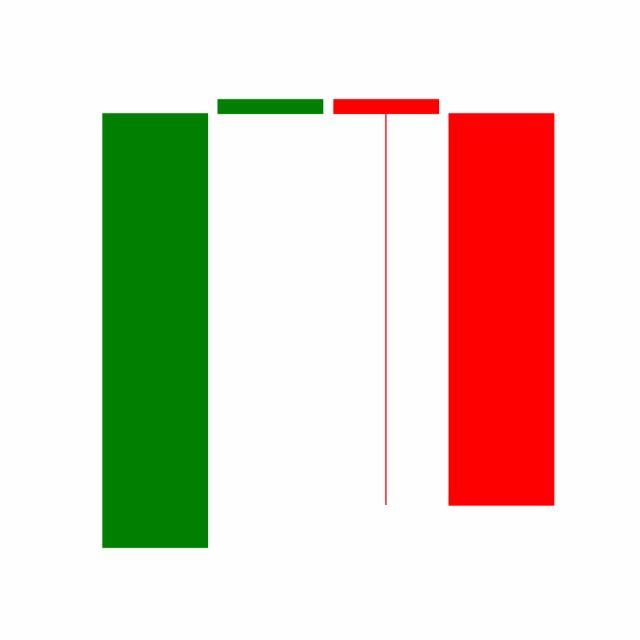Dragonfly Doji: (328, 94, 444, 510)
